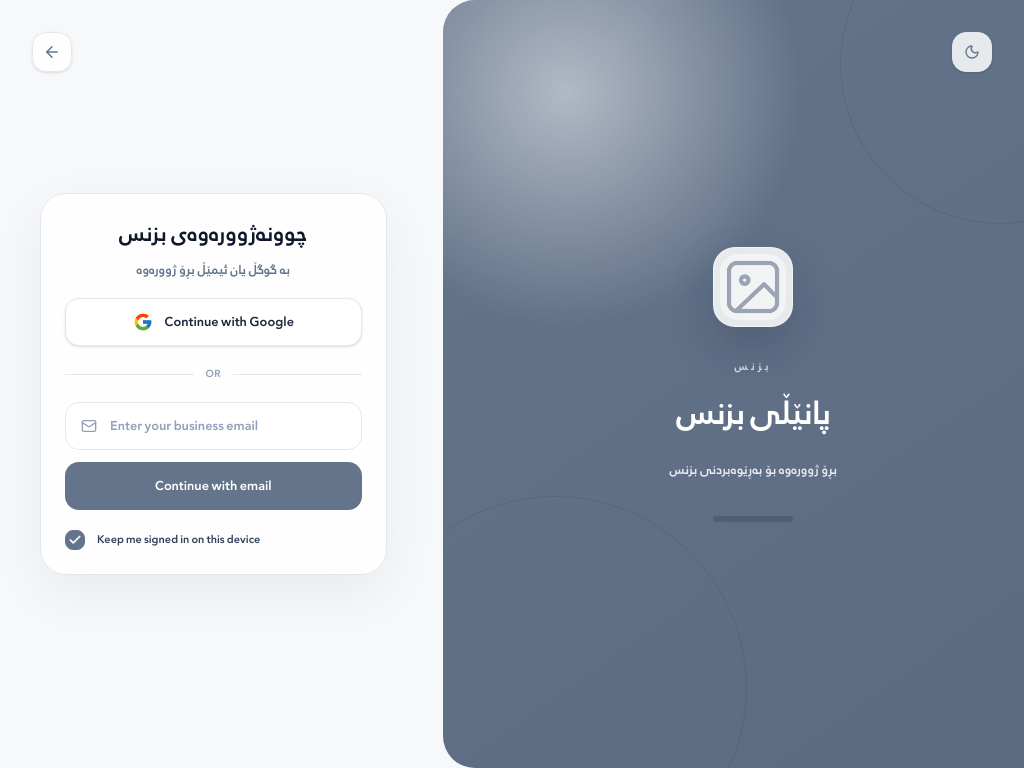
it: BusinessWorkspaceEntryPage › requests a one-time code for the entered business email
Type "owner@example.com" into the field named "Email address". click: point(213, 426)
box: [65, 402, 362, 450]
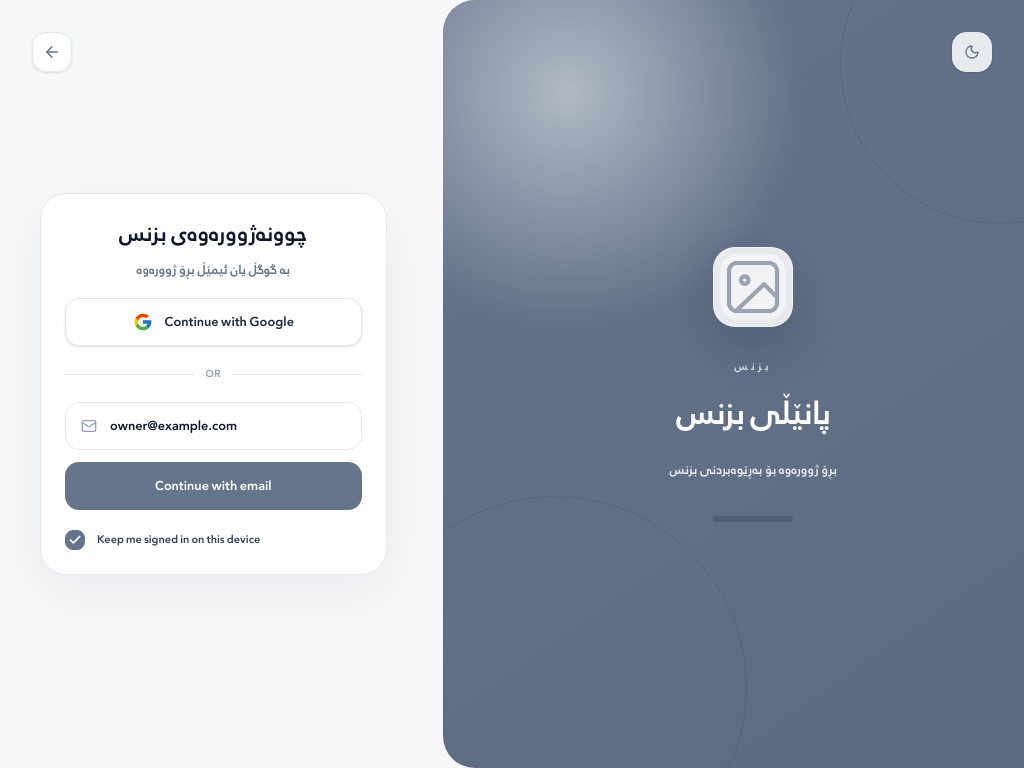
Click the button "Continue with email". click: point(213, 486)
box: [65, 462, 362, 510]
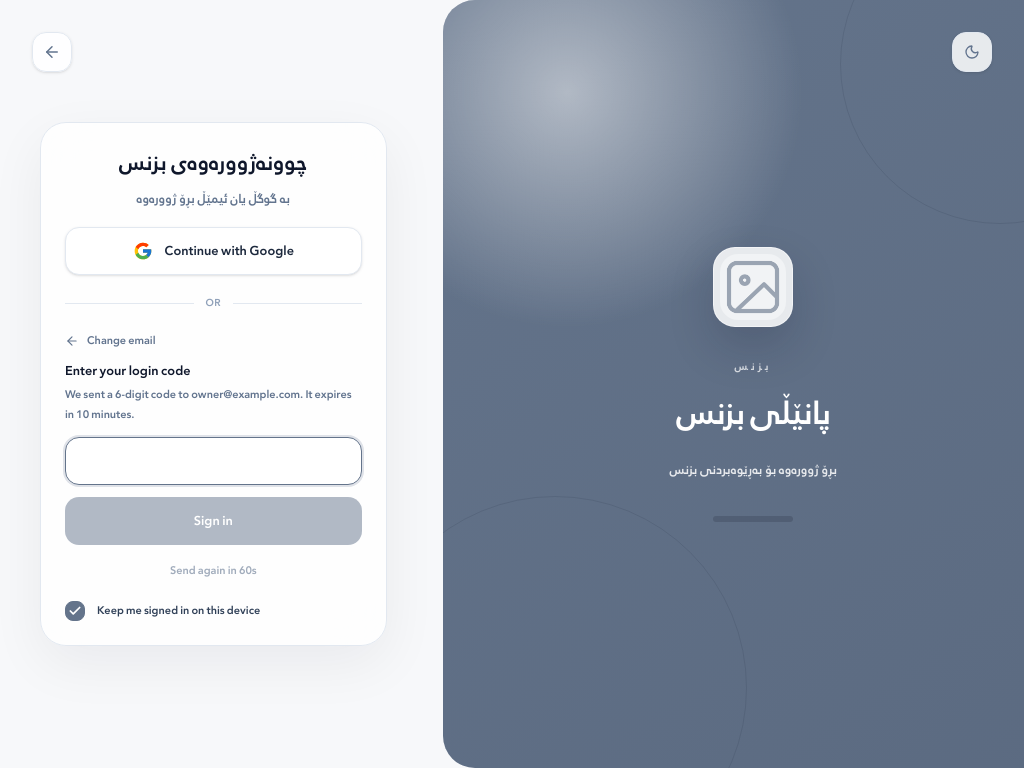
expect the field named "Login code" is shown: met, box [65, 437, 362, 485]
